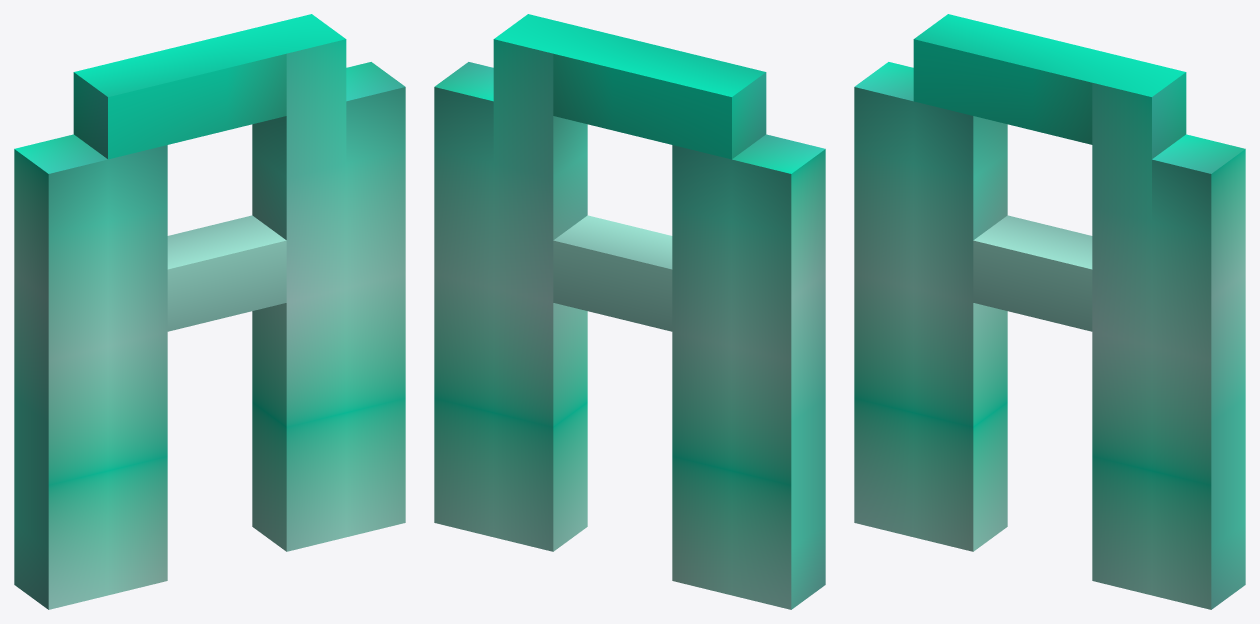
File: BillboardModule_Letters_A_00.fbx
The picture shows the model from 3 angles, left to right: view 1: azimuth 30°, elevation 25°; view 2: azimuth 150°, elevation 25°; view 3: azimuth 330°, elevation 25°; orthographic projection.
Visible parts, largest first — view 1: BillboardModule_Letters_A_00; view 2: BillboardModule_Letters_A_00; view 3: BillboardModule_Letters_A_00.
Boxes of the visible parts, box(x1,y1,x2,y2) form: BillboardModule_Letters_A_00: box(14, 14, 405, 609); BillboardModule_Letters_A_00: box(434, 14, 825, 609); BillboardModule_Letters_A_00: box(854, 14, 1245, 609).
Size of the model in its own units: 30 by 40 by 5.
